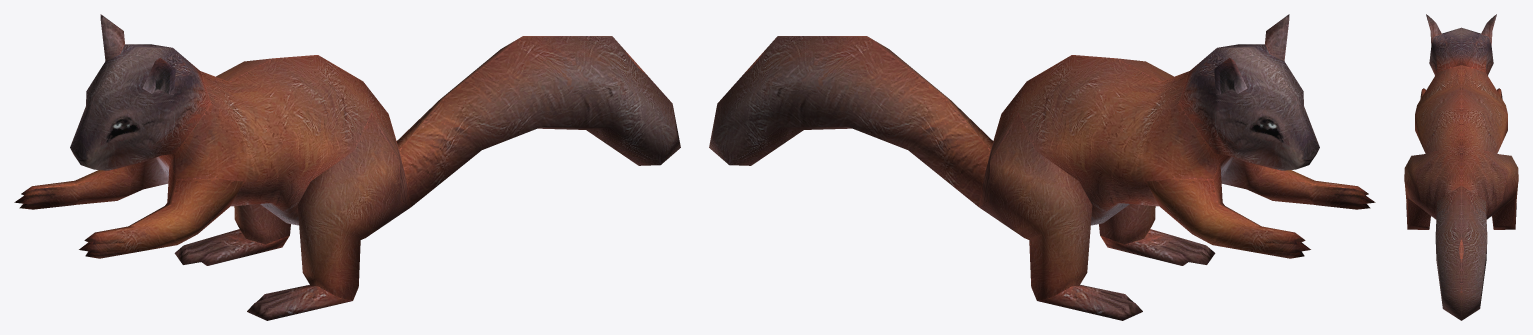
Rendered from squirrel.glb.
3 renders of one model, left to right at view 1: azimuth 30°, elevation 25°; view 2: azimuth 150°, elevation 25°; view 3: azimuth 270°, elevation 25°, orthographic. The views are drawn at different scales.
Parts seen in each view (by area): view 1: Box02; view 2: Box02; view 3: Box02.
Part boxes in pixels (bbox=[...]): Box02: bbox=[14, 14, 680, 320]; Box02: bbox=[709, 14, 1375, 320]; Box02: bbox=[1404, 14, 1518, 320].
Size of the model in its own units: 30.78 by 12.75 by 8.07.
Materials: 1 (1 with a texture image).
